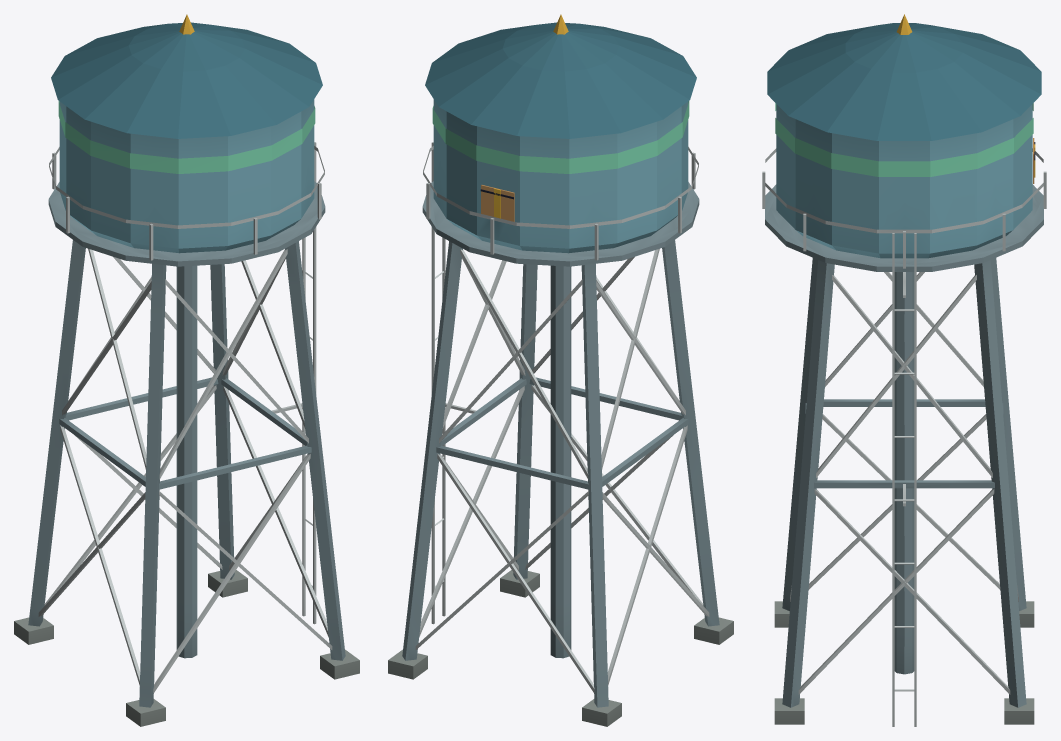
Rendered from sm_env_landmark_water_tower.glb.
The picture shows the model from 3 angles, left to right: view 1: azimuth 30°, elevation 25°; view 2: azimuth 150°, elevation 25°; view 3: azimuth 270°, elevation 25°; orthographic projection. The views are drawn at different scales.
Parts seen in each view (by area): view 1: TankRoof, Tank, Riser, TowerLeg.002, TowerLeg.003, TowerLeg.001, Catwalk, TankBand, TowerLeg, TowerBrace.008, TowerBrace.010, TowerBrace.005 (+21 smaller); view 2: TankRoof, Tank, Riser, TowerLeg.001, TowerLeg, TowerLeg.002, Catwalk, TankBand, TowerLeg.003, TowerBrace.001, TowerBrace.003, TowerBrace.004 (+22 smaller); view 3: TankRoof, Tank, TowerLeg, TowerLeg.003, Riser, Catwalk, TankBand, TowerLeg.001, TowerLeg.002, TowerRing.003, LadderRail, LadderRail.001 (+13 smaller).
Boxes of the visible parts, left/top/right/bottom form: TankRoof: left=51, top=22, right=322, bottom=138; Tank: left=59, top=99, right=314, bottom=248; Riser: left=176, top=265, right=197, bottom=658; TowerLeg.002: left=139, top=263, right=166, bottom=707; TowerLeg.003: left=285, top=241, right=345, bottom=660; TowerLeg.001: left=28, top=240, right=85, bottom=626; Catwalk: left=48, top=181, right=325, bottom=266; TankBand: left=58, top=101, right=315, bottom=173; TowerLeg: left=210, top=264, right=234, bottom=579; TowerBrace.008: left=153, top=454, right=310, bottom=693; TowerBrace.010: left=159, top=249, right=287, bottom=479; TowerBrace.005: left=60, top=425, right=140, bottom=685; TankRoof: left=425, top=22, right=696, bottom=138; Tank: left=433, top=99, right=688, bottom=248; Riser: left=550, top=265, right=571, bottom=658; TowerLeg.001: left=581, top=263, right=608, bottom=707; TowerLeg: left=402, top=241, right=462, bottom=660; TowerLeg.002: left=662, top=240, right=719, bottom=626; Catwalk: left=422, top=181, right=699, bottom=266; TankBand: left=432, top=101, right=689, bottom=173; TowerLeg.003: left=513, top=264, right=537, bottom=579; TowerBrace.001: left=437, top=454, right=594, bottom=693; TowerBrace.003: left=460, top=249, right=588, bottom=479; TowerBrace.004: left=607, top=425, right=687, bottom=685; TankRoof: left=767, top=23, right=1041, bottom=140; Tank: left=776, top=104, right=1032, bottom=253; TowerLeg: left=974, top=260, right=1026, bottom=707; TowerLeg.003: left=782, top=260, right=834, bottom=707; Riser: left=894, top=272, right=914, bottom=674; Catwalk: left=765, top=184, right=1043, bottom=271; TankBand: left=775, top=103, right=1033, bottom=176; TowerLeg.001: left=990, top=258, right=1026, bottom=611; TowerLeg.002: left=782, top=258, right=818, bottom=611; TowerRing.003: left=814, top=480, right=994, bottom=488; LadderRail: left=892, top=233, right=894, bottom=726; LadderRail.001: left=914, top=233, right=916, bottom=726.
Bounding box in the file's own units: 5.78 × 14.51 × 5.7.
